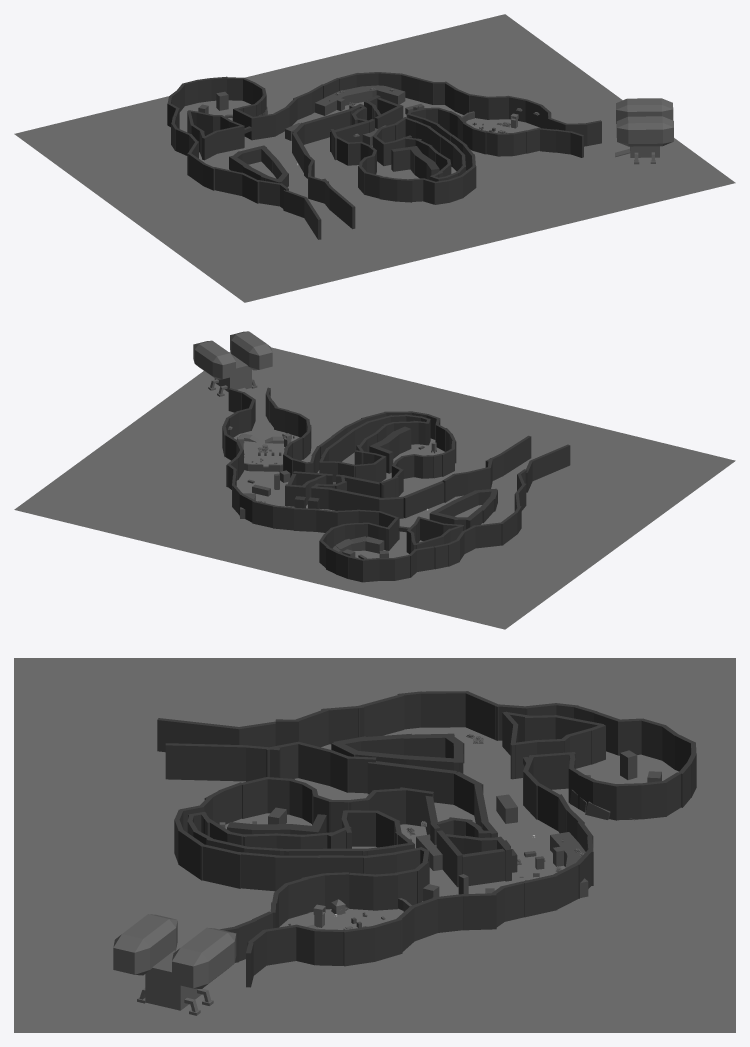
The model's file is Level 1.fbx.
3 renders of one model, top to bottom at view 1: azimuth 30°, elevation 25°; view 2: azimuth 150°, elevation 25°; view 3: azimuth 270°, elevation 25°, orthographic. The views are drawn at different scales.
Visible parts, largest first — view 1: Plane, Spaceship, Cube.139, Cube, Cube.092, Cube.087, Cube.070, Cube.140, Cube.094, Cube.096, Cube.115, Cube.055; view 2: Plane, Spaceship, Cube.141, Cube.139, Cube.097, Cube, Cube.089, Cube.140, Cube.066, Cube.003, Cube.064, Cube.065; view 3: Plane, Spaceship, Cube, Cube.141, Cube.097, Cube.090, Cube.092, Cube.189, Cube.147, Cube.191, Cube.089, Cube.071 (+51 smaller).
Boxes of the visible parts, bbox=[...] form: Plane: bbox=[14, 14, 735, 302]; Spaceship: bbox=[615, 98, 673, 164]; Cube.139: bbox=[303, 109, 352, 144]; Cube: bbox=[329, 187, 355, 229]; Cube.092: bbox=[213, 167, 244, 195]; Cube.087: bbox=[215, 126, 244, 153]; Cube.070: bbox=[251, 113, 275, 140]; Cube.140: bbox=[330, 120, 369, 151]; Cube.094: bbox=[258, 180, 281, 206]; Cube.096: bbox=[283, 190, 306, 217]; Cube.115: bbox=[391, 146, 416, 171]; Cube.055: bbox=[489, 96, 508, 119]; Plane: bbox=[14, 347, 735, 629]; Spaceship: bbox=[193, 331, 272, 397]; Cube.141: bbox=[403, 480, 444, 518]; Cube.139: bbox=[327, 487, 380, 510]; Cube.097: bbox=[530, 444, 570, 480]; Cube: bbox=[500, 435, 531, 476]; Cube.089: bbox=[473, 522, 503, 548]; Cube.140: bbox=[343, 475, 384, 497]; Cube.066: bbox=[293, 508, 317, 531]; Cube.003: bbox=[466, 467, 490, 493]; Cube.064: bbox=[252, 500, 274, 527]; Cube.065: bbox=[273, 505, 296, 530]; Plane: bbox=[14, 658, 735, 1032]; Spaceship: bbox=[113, 914, 236, 1015]; Cube: bbox=[165, 743, 247, 781]; Cube.141: bbox=[367, 761, 457, 804]; Cube.097: bbox=[157, 718, 240, 752]; Cube.090: bbox=[420, 691, 468, 727]; Cube.092: bbox=[356, 694, 404, 737]; Cube.189: bbox=[200, 844, 240, 888]; Cube.147: bbox=[462, 848, 505, 885]; Cube.191: bbox=[236, 852, 280, 891]; Cube.089: bbox=[464, 691, 500, 740]; Cube.071: bbox=[530, 752, 575, 789].
Bounding box in the file's own units: 404 × 42.64 × 329.
